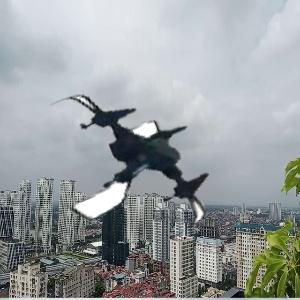drone: (48, 77, 221, 250)
